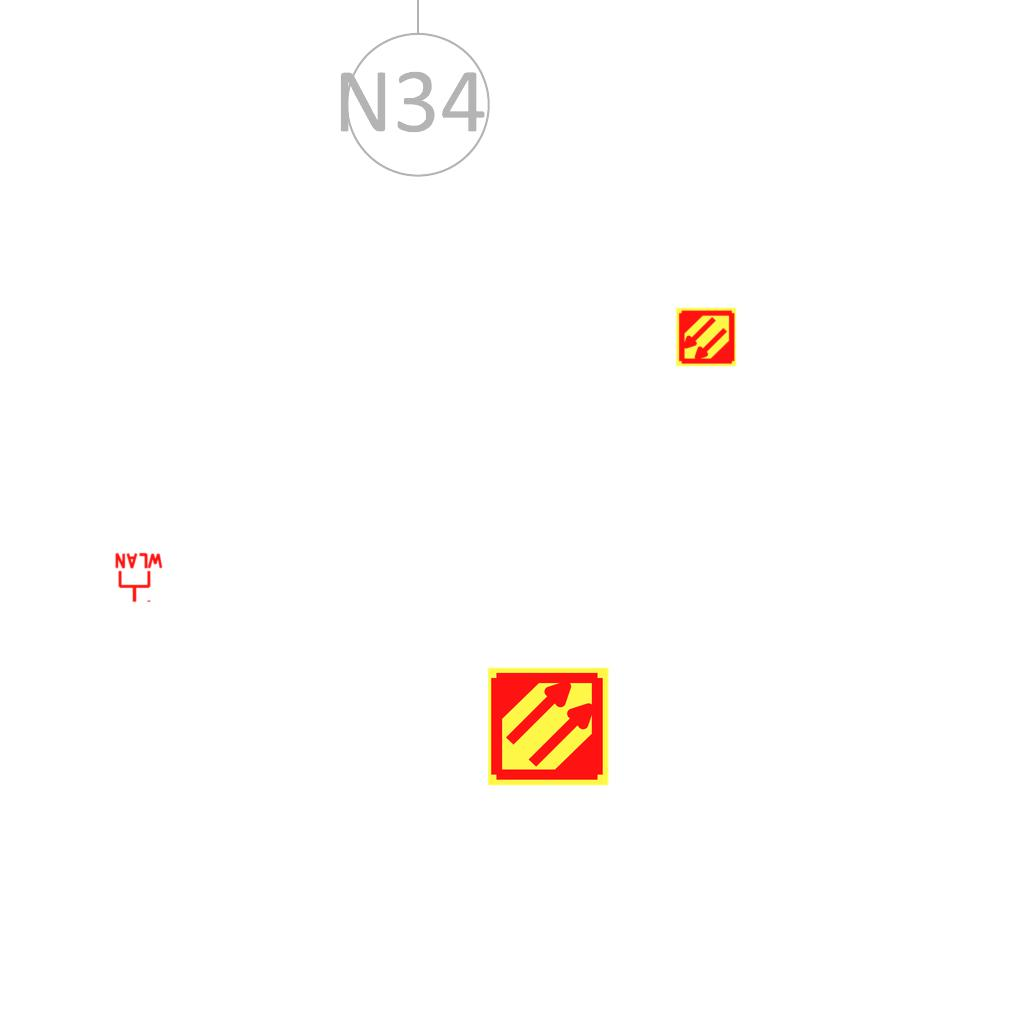ASR_Ansaugrauchmelder: (486, 664, 611, 789), (675, 306, 737, 368)
WLAN: (113, 552, 165, 604)
